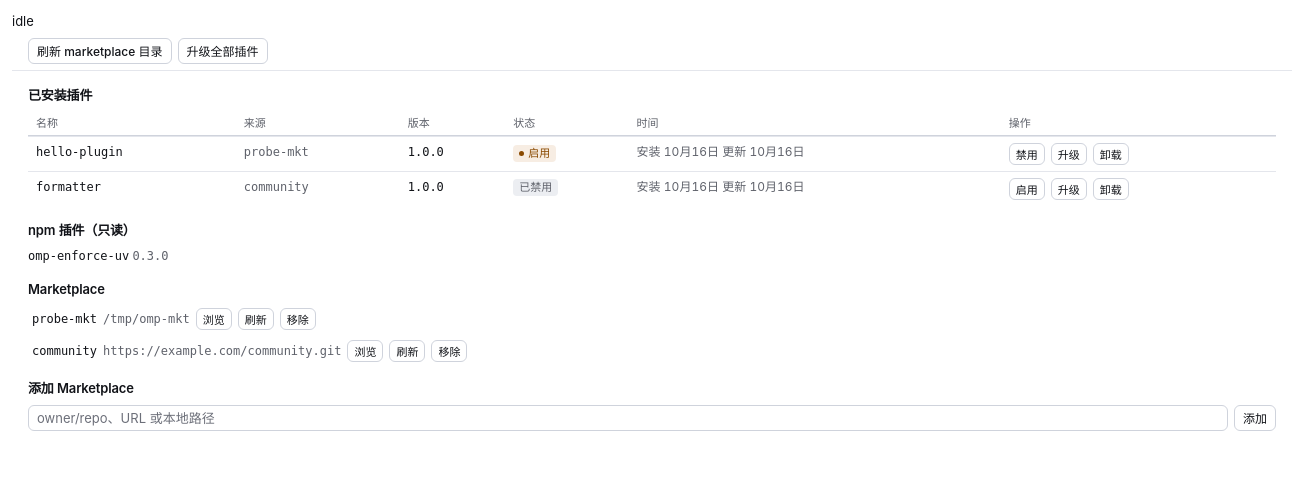
Test case: PluginsPanel（有状态 mock） › 添加 marketplace 成功后出现在列表
expect the button with aria-label "浏览 probe-mkt" is shown: met, box [196,308,232,330]
Type "/tmp/new-mkt" into the field named "marketplace 来源".
click(628, 418); type("/tmp/new-mkt")  # box [28,405,1228,431]
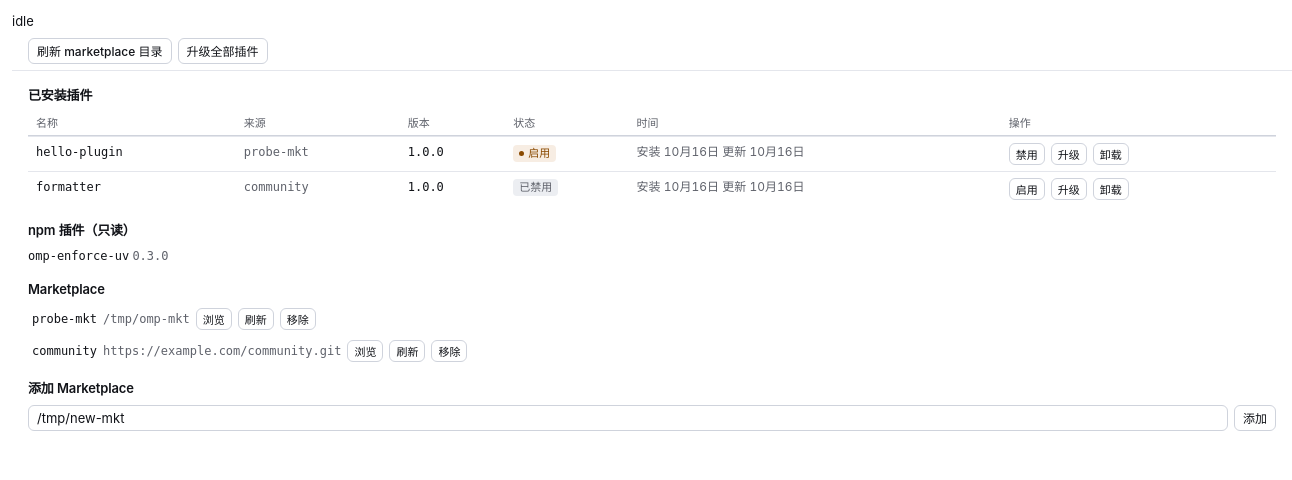
Click the button "添加".
click(1255, 418)  # box [1234,405,1276,431]
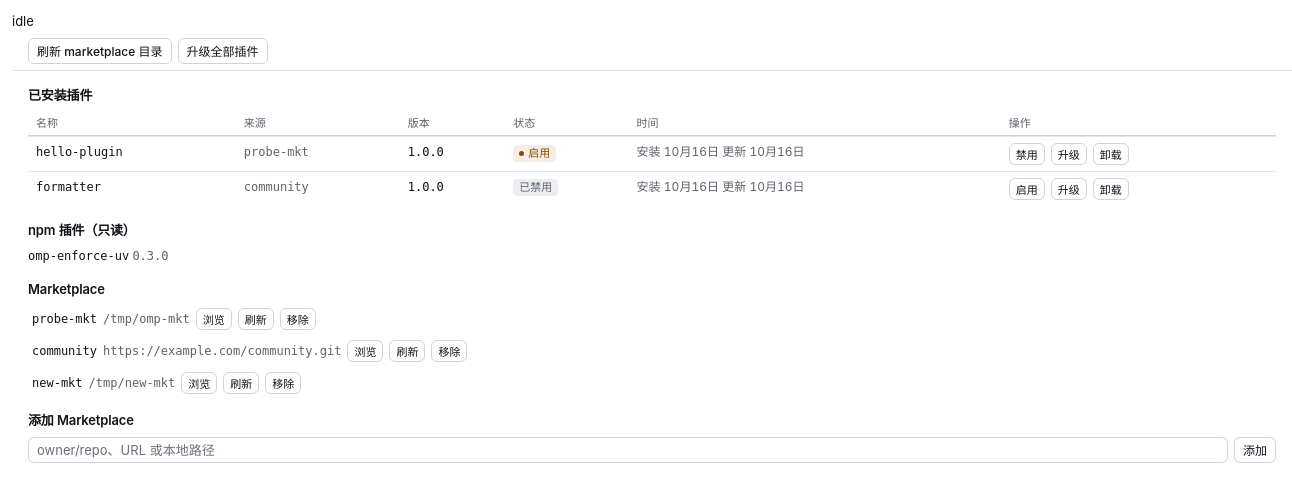
expect the button with aria-label "浏览 new-mkt" is shown: met, box [181,372,217,394]
